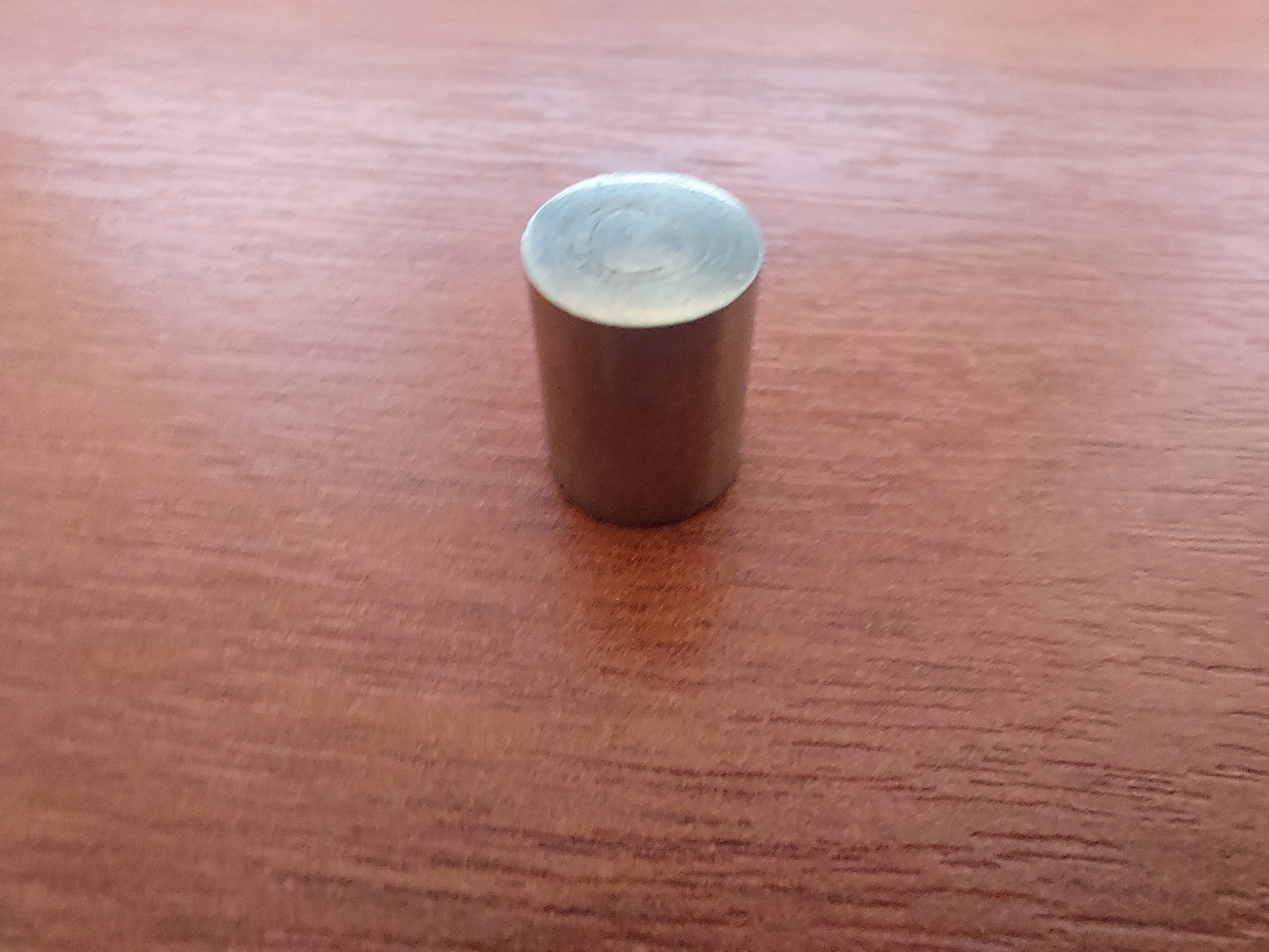tablet: (498, 156, 781, 544)
